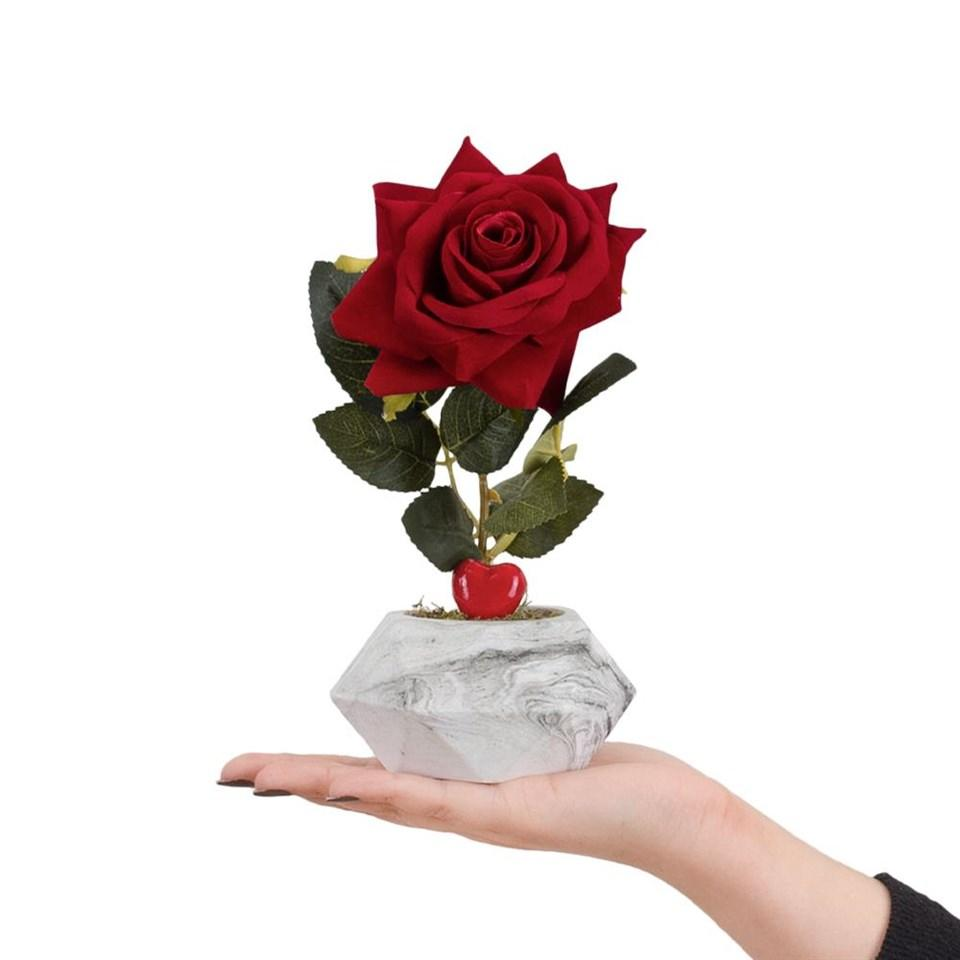Rose: (329, 142, 655, 444)
